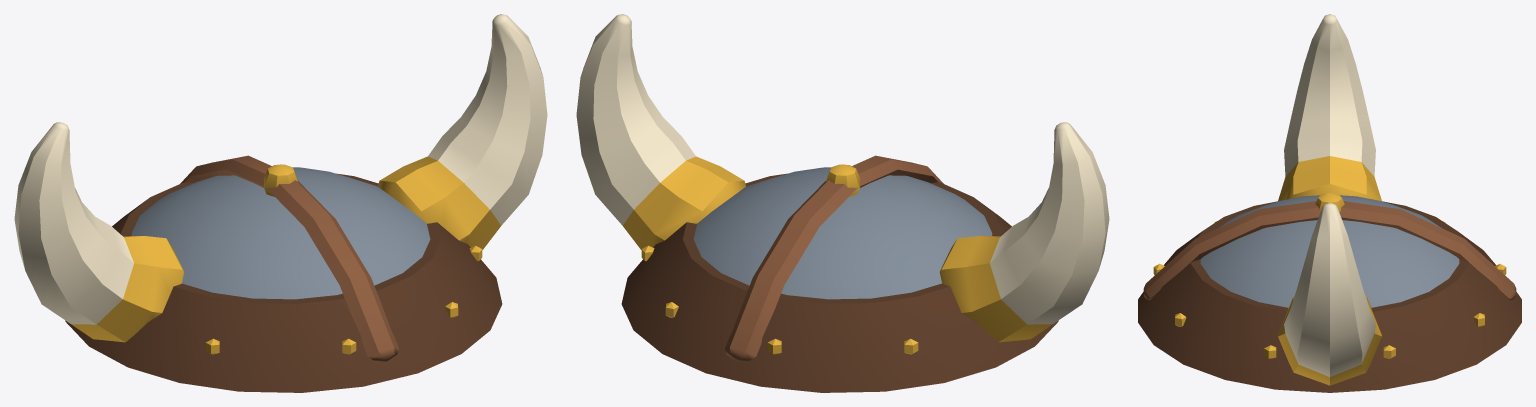
File: hat_viking.glb
3 renders of one model, left to right at view 1: azimuth 30°, elevation 25°; view 2: azimuth 150°, elevation 25°; view 3: azimuth 270°, elevation 25°, orthographic. The views are drawn at different scales.
Visible parts, largest first — view 1: Hat; view 2: Hat; view 3: Hat.
Boxes of the visible parts, <box> form: Hat: <box>14,14,547,392</box>; Hat: <box>576,14,1109,392</box>; Hat: <box>1138,14,1521,392</box>.
Size of the model in its own units: 0.9988 by 0.4417 by 0.7231.
